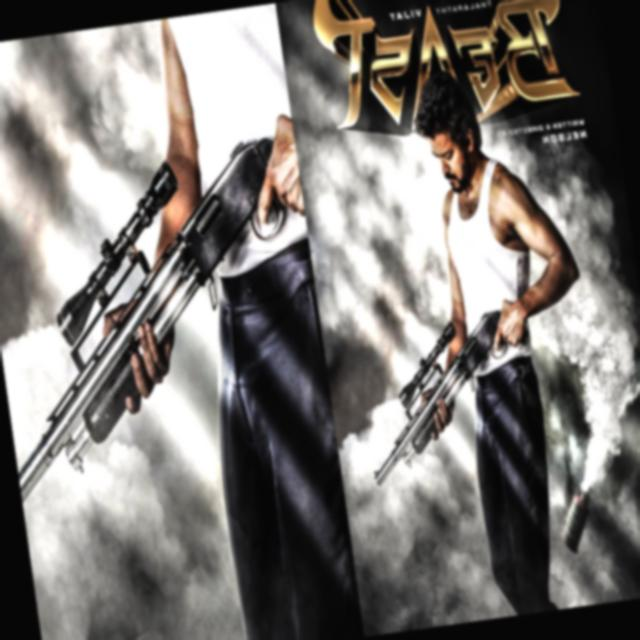shotgun: (0, 108, 330, 520), (341, 290, 549, 500)
